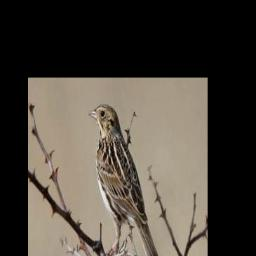Sparrow: (86, 99, 166, 256)
